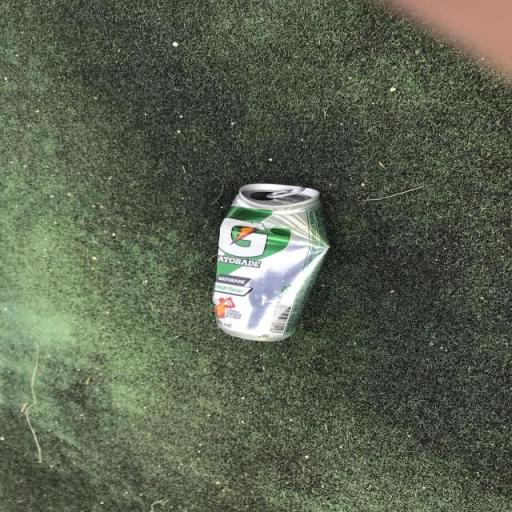metal: (192, 142, 362, 401)
